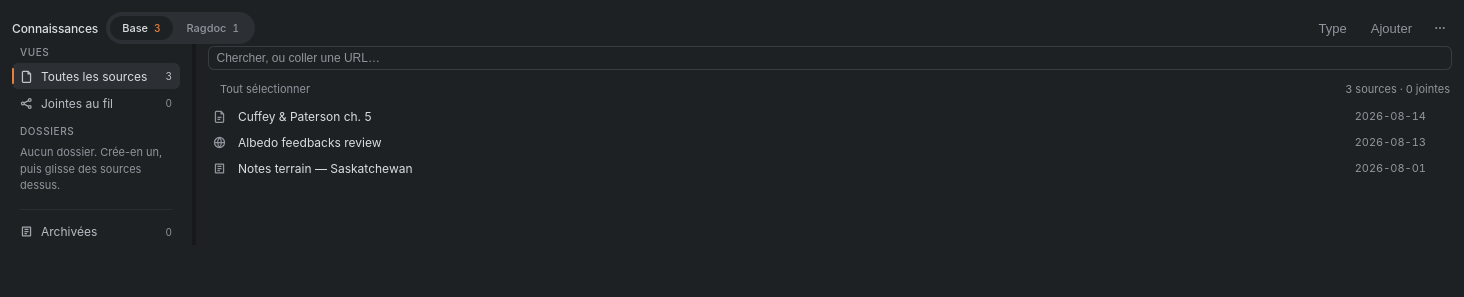
Test: KbSurface › sélection en lot sans mode : la case suffit, la barre d'actions suit
What coordinates should you click on to do the following:
click the button with class "kb-pick" in the row of "2026-08-14"
I would click on:
 (219, 116)
Its box is [208, 105, 230, 127].
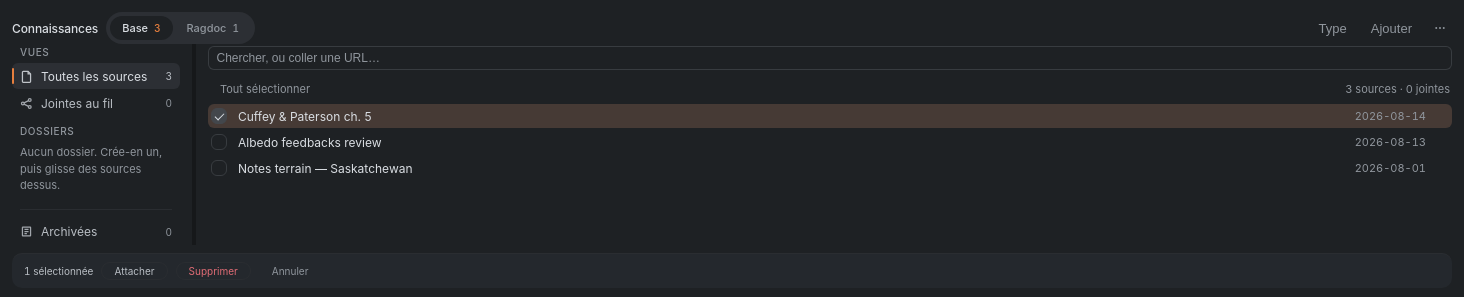
What coordinates should you click on to do the following:
click the button with class "kb-pick" in the row of "2026-08-01"
I would click on:
 (219, 168)
Its box is [208, 157, 230, 179].
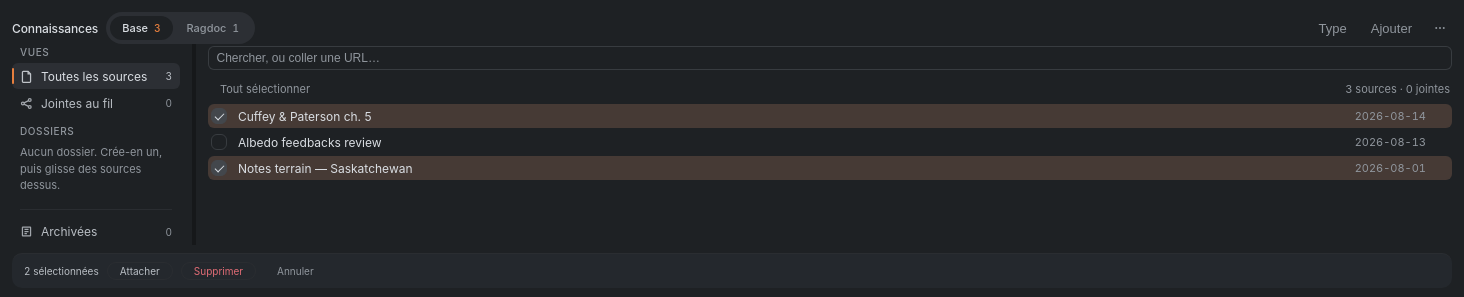
Check: the text "2 sélectionnées" is shown, box [24, 264, 99, 276]
What coordinates should you click on to do the following:
click the button "Attacher"
I would click on:
 (140, 270)
Its box is [107, 262, 173, 280].
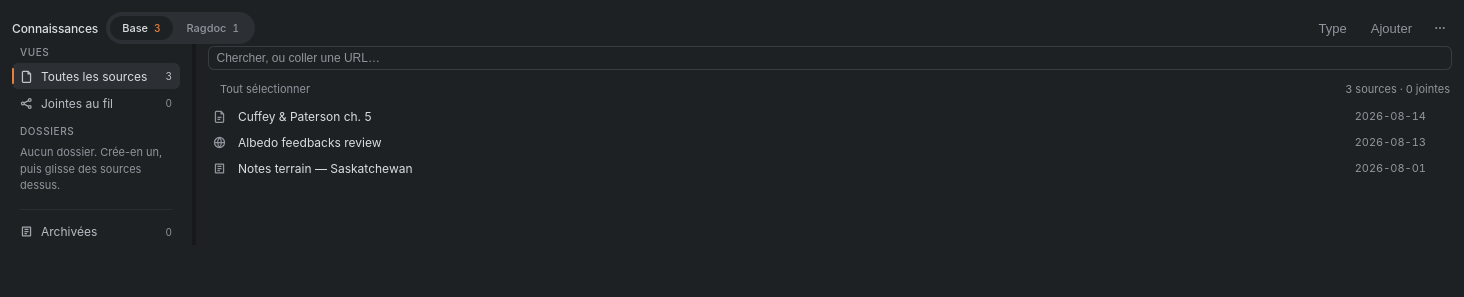
Check: the text "sélectionnée" is gone
